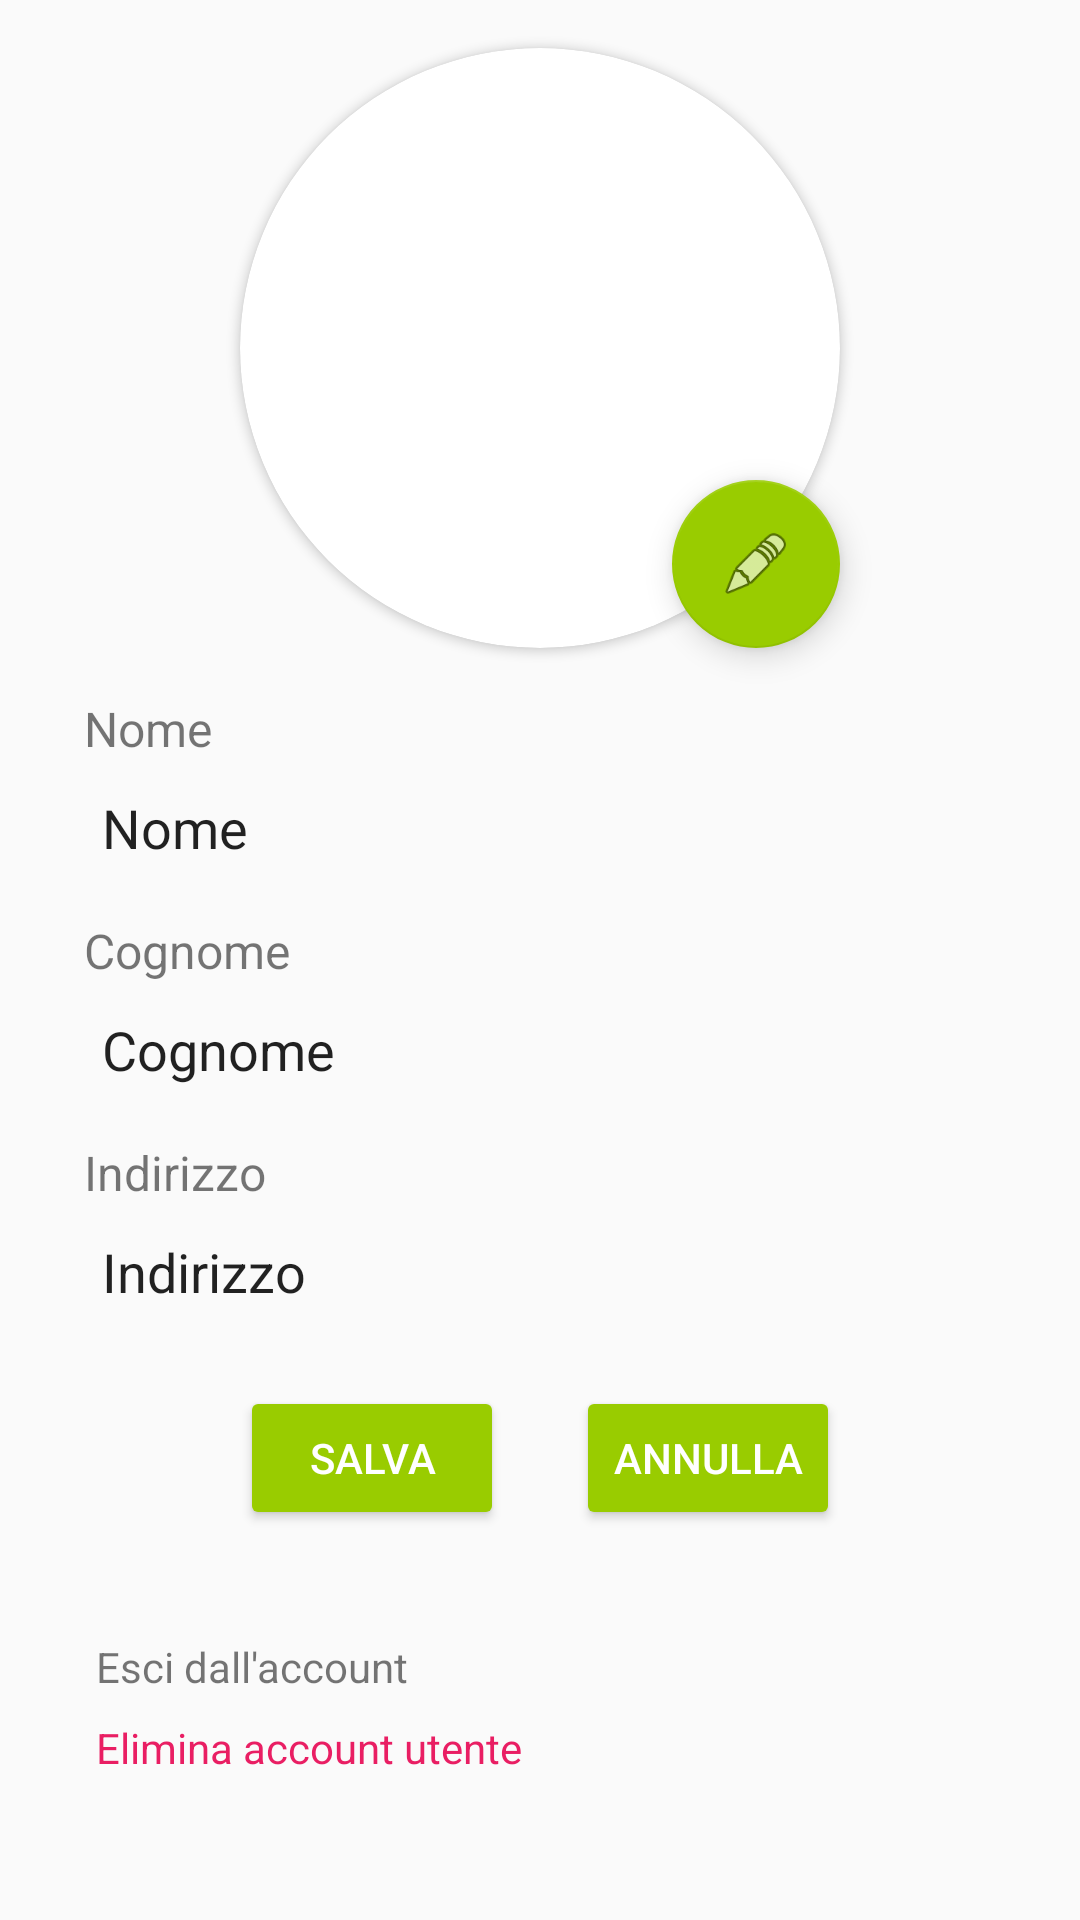

Icons on this 1080*1920 Android screen, each with its box as BBox(x1, y1, x2, y2):
edit: BBox(672, 480, 840, 648)
